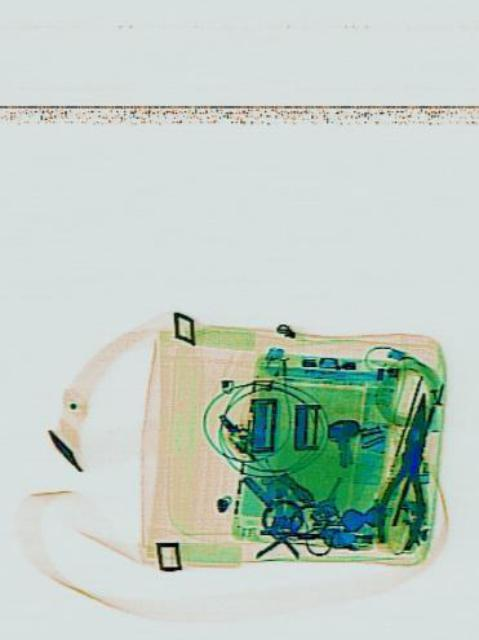Pliers: (372, 386, 445, 550)
